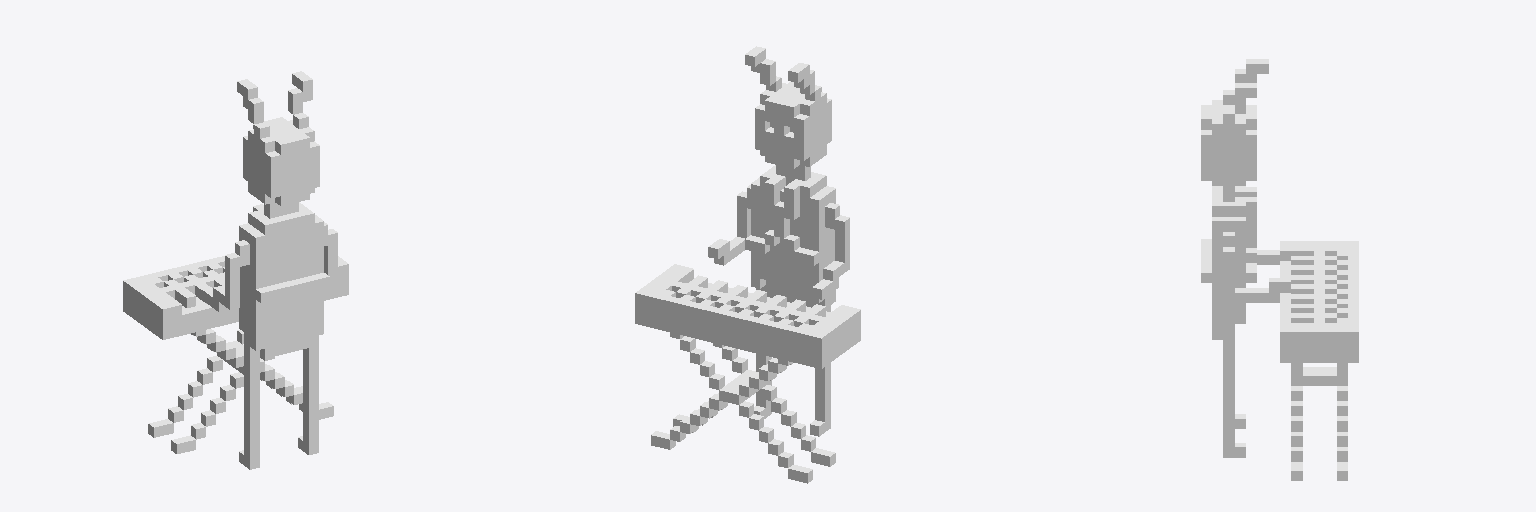
Rendered from Pianista-03.obj.
3 renders of one model, left to right at view 1: azimuth 30°, elevation 25°; view 2: azimuth 150°, elevation 25°; view 3: azimuth 270°, elevation 25°, orthographic.
Bounding box in the file's own units: 19 × 36 × 14.